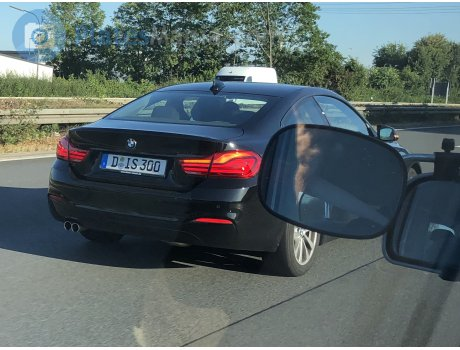License Plates: (110, 155, 163, 173)
